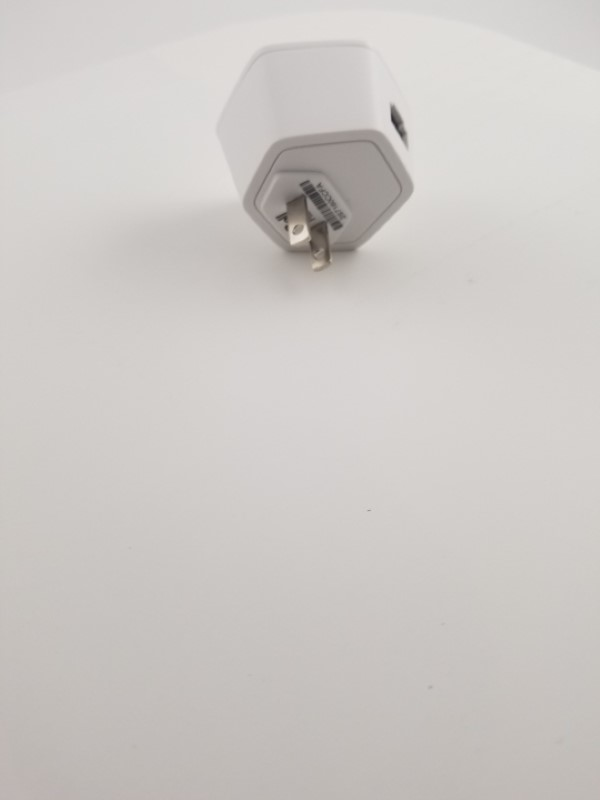pod: (209, 34, 433, 283)
